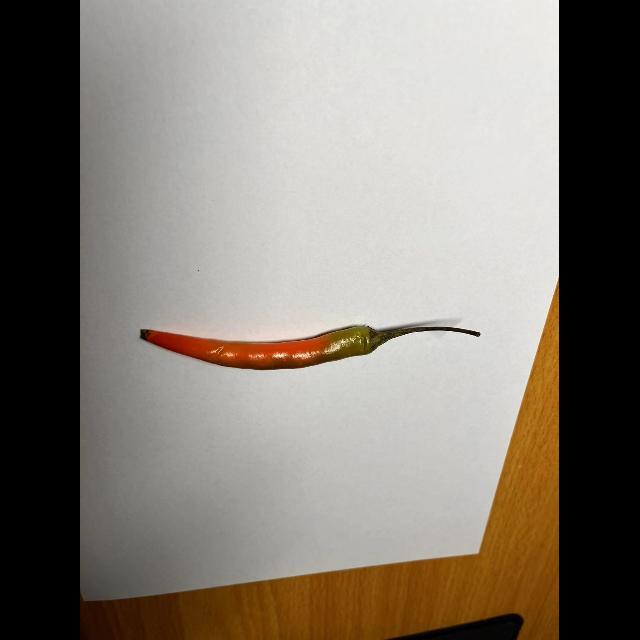chili_pepper: (138, 310, 486, 378)
